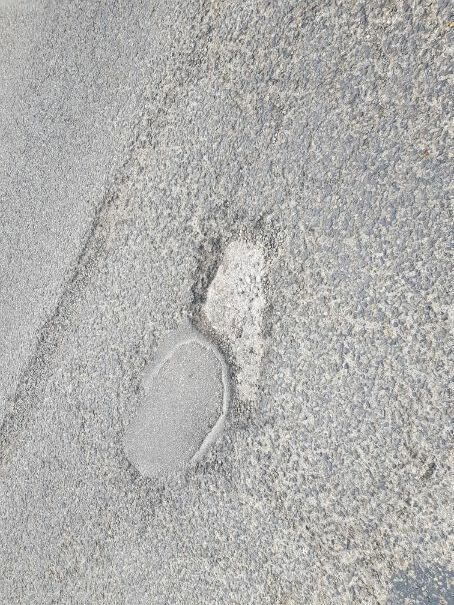pothole: (186, 219, 292, 415)
